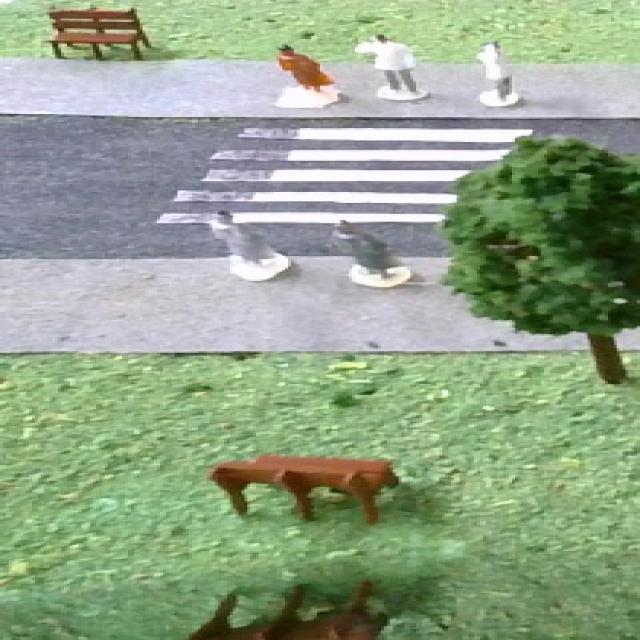person: (196, 205, 297, 287), (318, 219, 419, 289), (349, 28, 429, 105), (264, 39, 342, 107), (470, 37, 528, 116)
